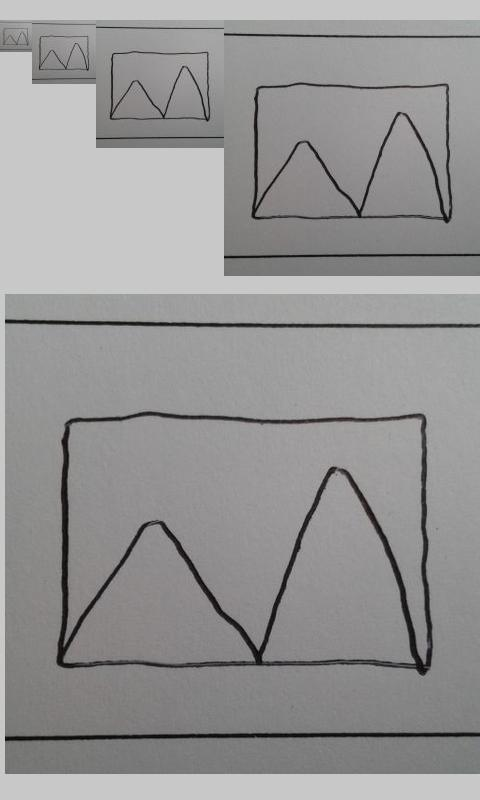image_view: (52, 409, 434, 676), (251, 81, 454, 223), (109, 50, 211, 122), (38, 35, 89, 71), (3, 27, 28, 46)
